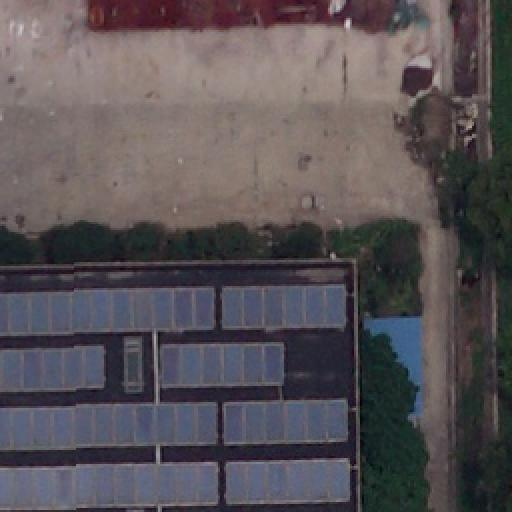solar-panel: (0, 282, 216, 334), (0, 402, 216, 450), (0, 461, 218, 507), (218, 280, 346, 328), (219, 397, 349, 443), (222, 457, 350, 503), (158, 342, 282, 386), (0, 346, 104, 390)
